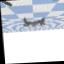drone: (21, 16, 45, 27)
